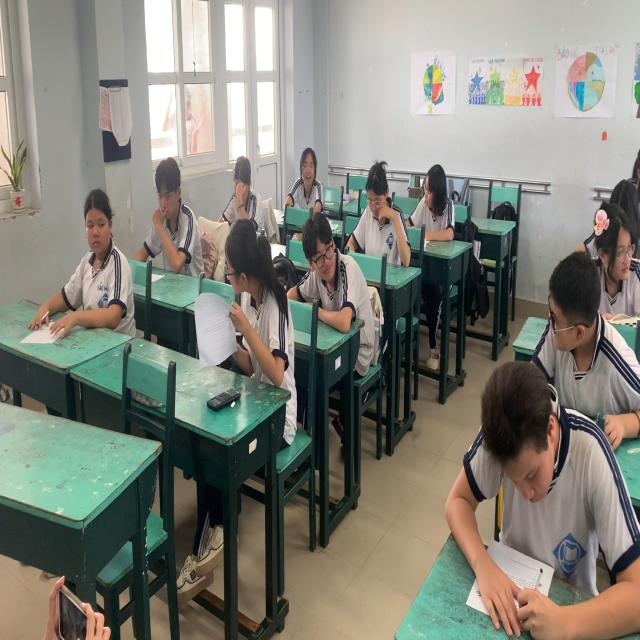cheating: (514, 240, 614, 440), (213, 169, 288, 414), (41, 174, 138, 346), (302, 185, 364, 364), (142, 130, 210, 278), (285, 121, 336, 224), (414, 156, 462, 253)
not_cheating: (447, 344, 630, 640), (550, 182, 640, 338), (580, 123, 640, 247), (353, 156, 404, 284), (212, 137, 256, 238)
